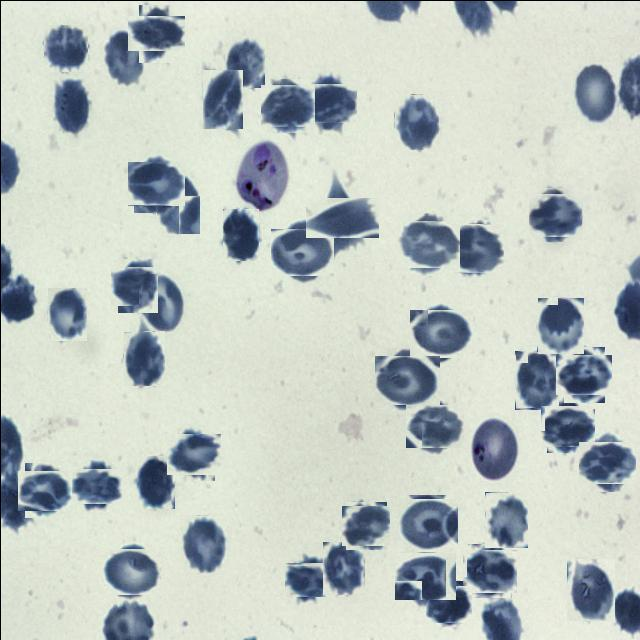red blood cell: (378, 351, 436, 408), (398, 496, 455, 554), (313, 188, 370, 245), (274, 223, 330, 280), (412, 305, 468, 361), (400, 216, 455, 271), (566, 558, 614, 620), (397, 549, 452, 603), (572, 61, 618, 124), (448, 221, 501, 274), (104, 544, 157, 597), (179, 514, 226, 572), (536, 296, 583, 353), (155, 173, 199, 233), (408, 400, 459, 451), (514, 350, 558, 409), (138, 273, 182, 331), (130, 158, 181, 208), (393, 93, 438, 149), (582, 437, 632, 487), (102, 27, 144, 86), (530, 190, 580, 239), (263, 80, 312, 130), (484, 491, 527, 547), (464, 546, 514, 594), (202, 69, 242, 128), (560, 349, 608, 398), (122, 330, 164, 385), (304, 78, 352, 126), (169, 429, 217, 477), (543, 401, 591, 449), (21, 466, 68, 514), (322, 541, 364, 594), (46, 286, 86, 340), (52, 76, 89, 134), (114, 262, 160, 308), (132, 10, 178, 56), (224, 35, 264, 87), (43, 24, 87, 71), (136, 455, 174, 508), (343, 503, 388, 547), (222, 208, 258, 260), (75, 464, 118, 506), (428, 582, 470, 624), (287, 558, 328, 599)
ring: (470, 416, 520, 483)
trophozoite: (235, 140, 287, 210)
